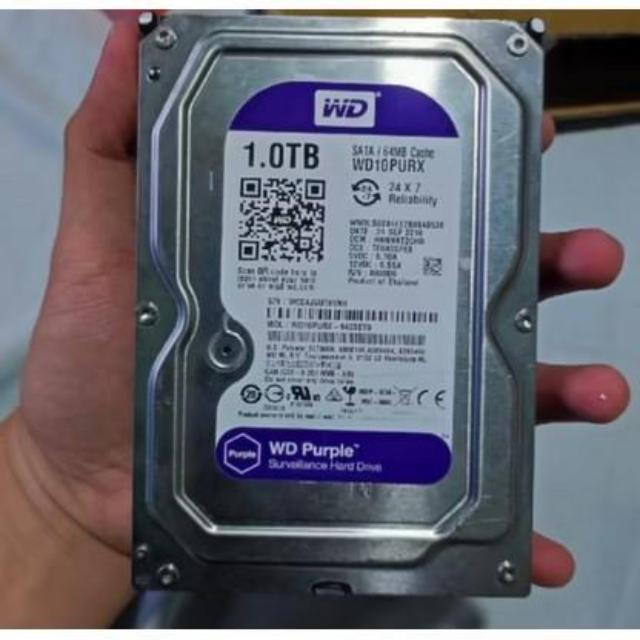DISK: (137, 17, 528, 597)
